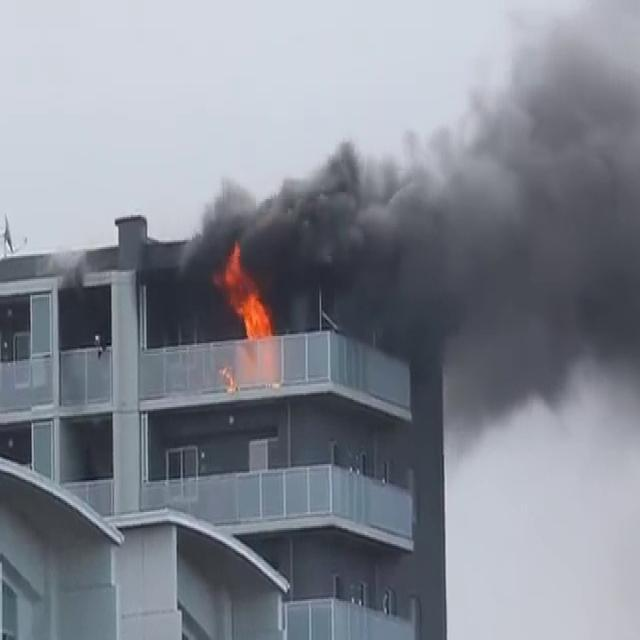Fire: (216, 242, 276, 346)
Smoke: (187, 28, 640, 444)
